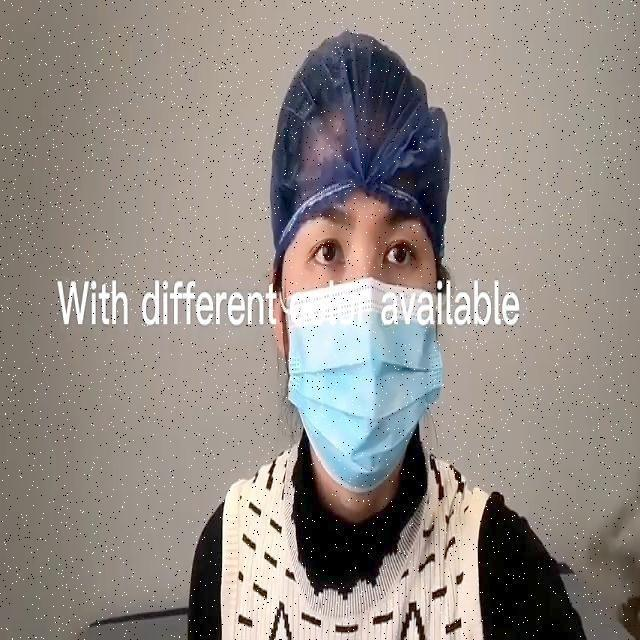gloves: (277, 41, 423, 197)
